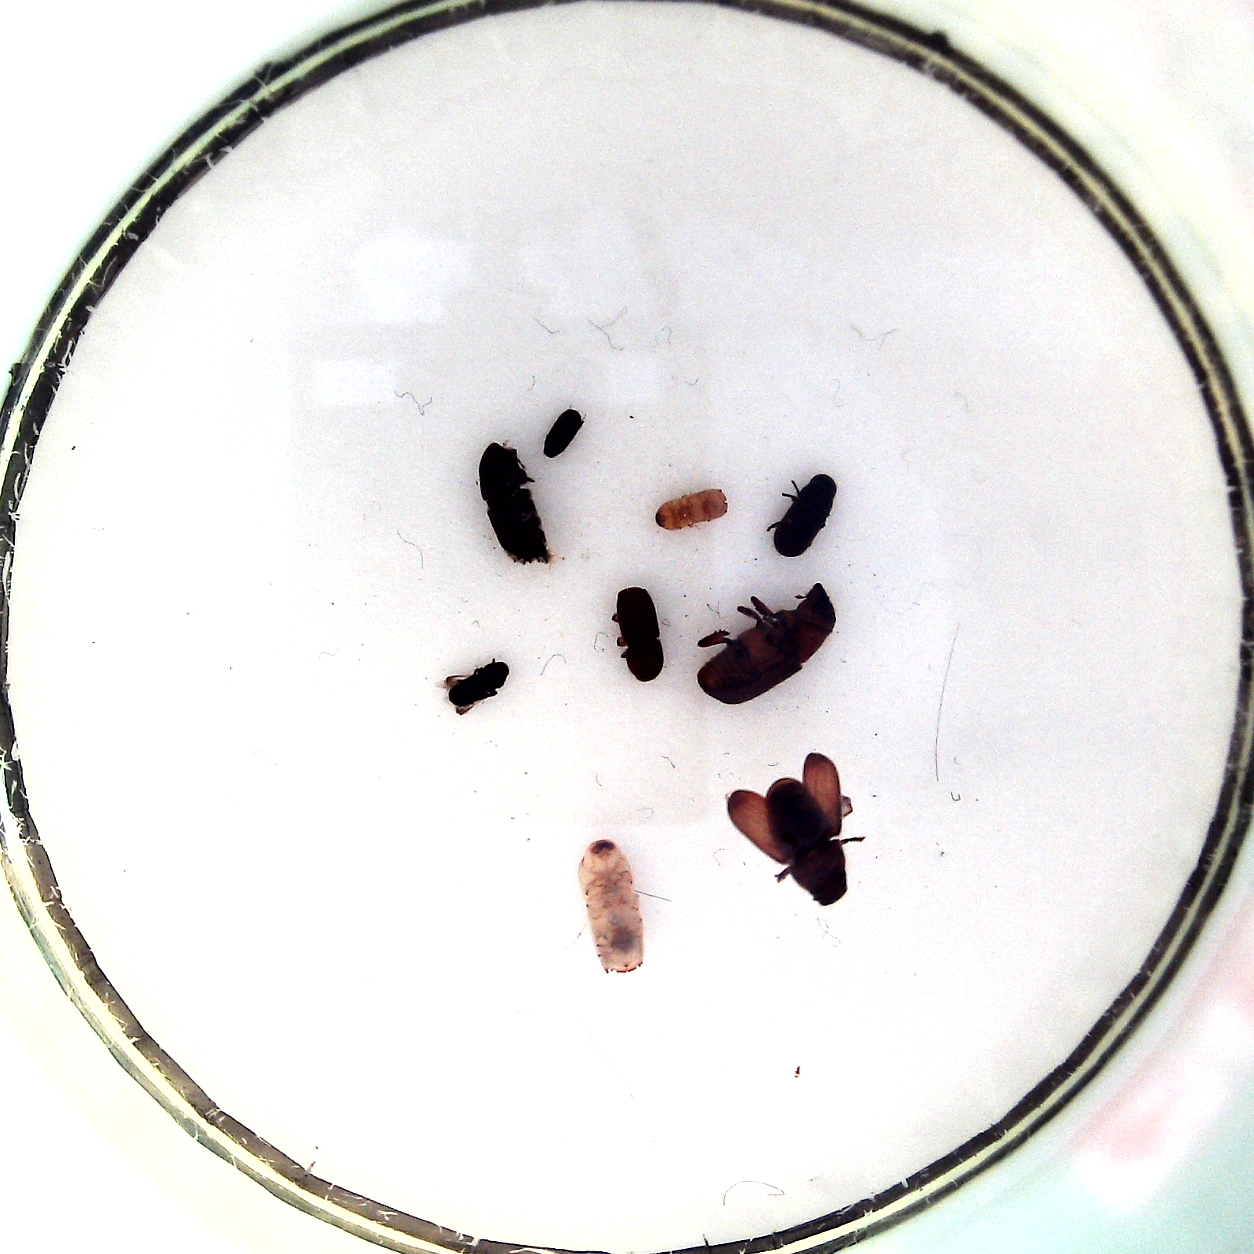Boerner: (568, 833, 661, 978)
Leconte: (722, 750, 869, 909), (689, 581, 843, 712), (466, 433, 562, 571)
Linnaeus: (607, 582, 673, 686)
acuminatus: (648, 483, 733, 533)
armandi: (766, 469, 842, 562)
coleoptera: (433, 655, 514, 719), (537, 404, 586, 464)
